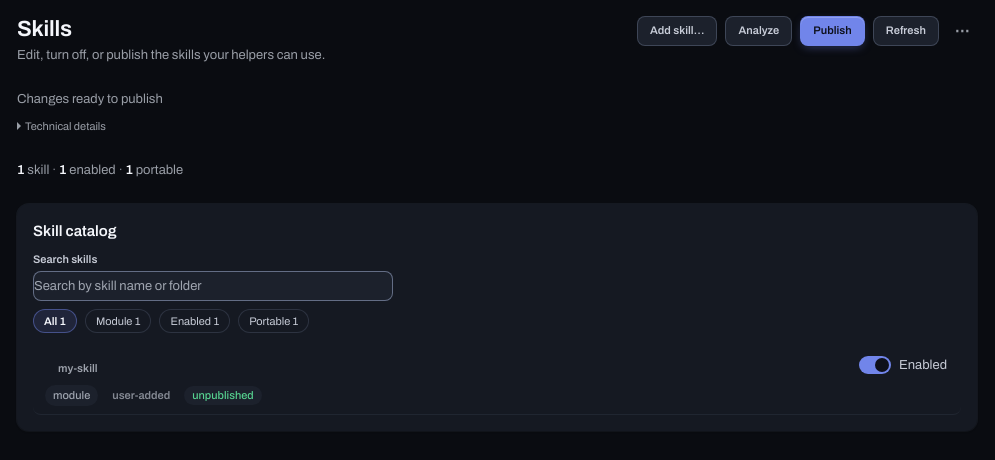
Test: S6 skills and MCP presentation › Skills has one visible Refresh and hides settled zero filters, while preserving the active zero filter
Expected: the list item with test id "skills-row" is shown, left=33, top=345, right=961, bottom=415
Expected: the number of buttons "Refresh" is 1, left=873, top=16, right=939, bottom=46
Click the button named "More actions for skills": (962, 31) left=947, top=16, right=977, bottom=46
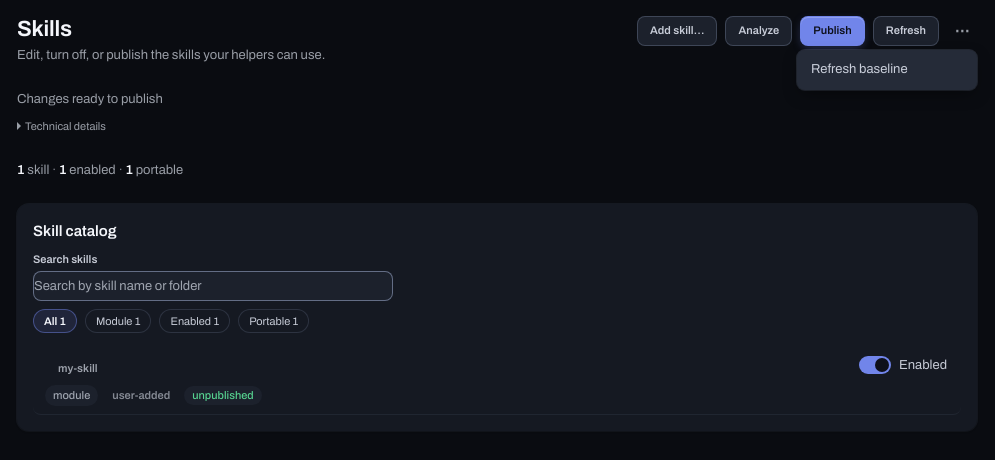
Expected: the menu item "Refresh baseline" is shown, left=801, top=54, right=973, bottom=86
Click the button named "More actions for skills": (962, 31) left=947, top=16, right=977, bottom=46
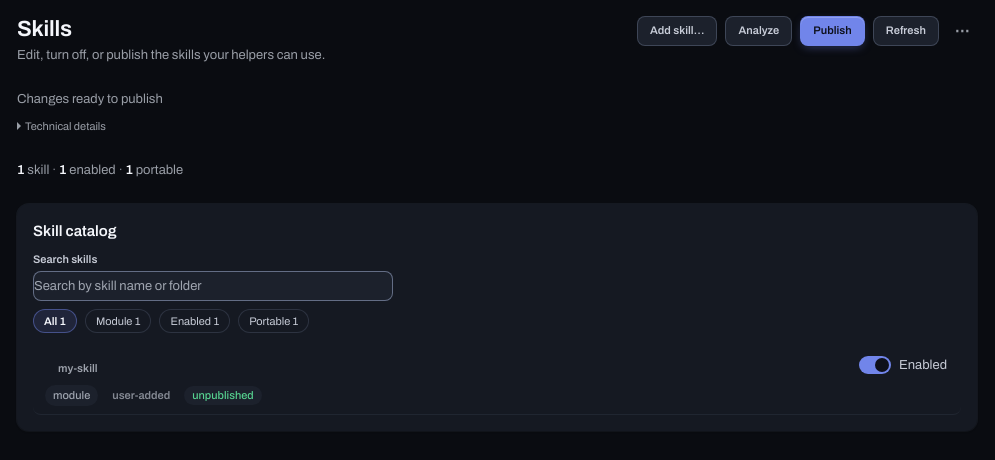
In the field with test id "skills-filter-search": (213, 286) left=33, top=271, right=393, bottom=301, type "no match"
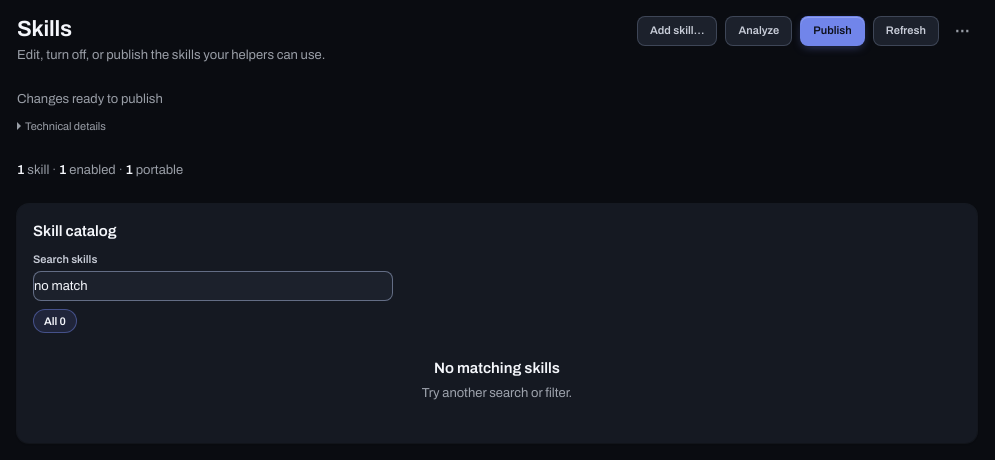
Expected: the number of buttons with test id "skills-filter-chip" is 1, left=33, top=309, right=77, bottom=333
Expected: the element with test id "skills-grid-empty" shows "No matching skills", left=434, top=360, right=560, bottom=376
